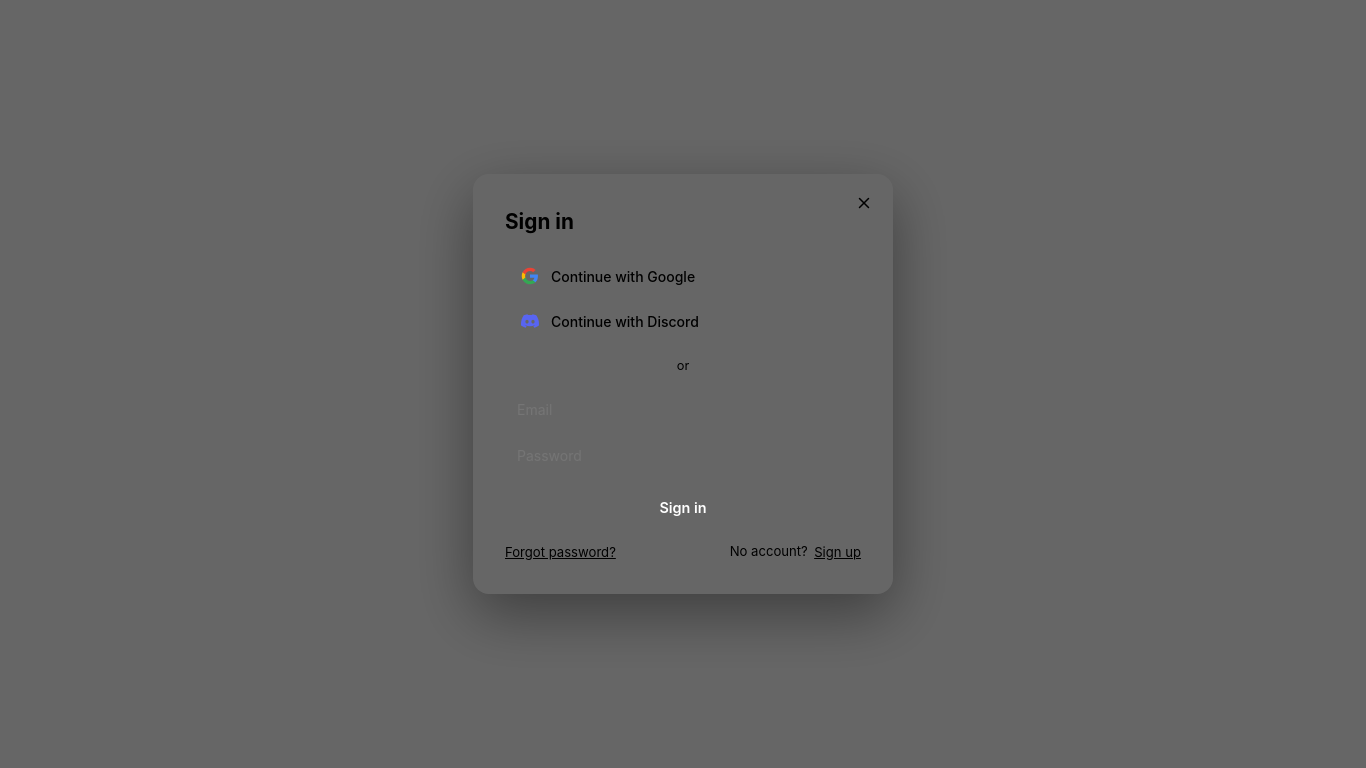
Test: AuthModal › "Forgot password?" switches to reset view
The image size is (1366, 768).
Step 1. Click the button "Forgot password?" → click(560, 552), box [505,544,616,560]
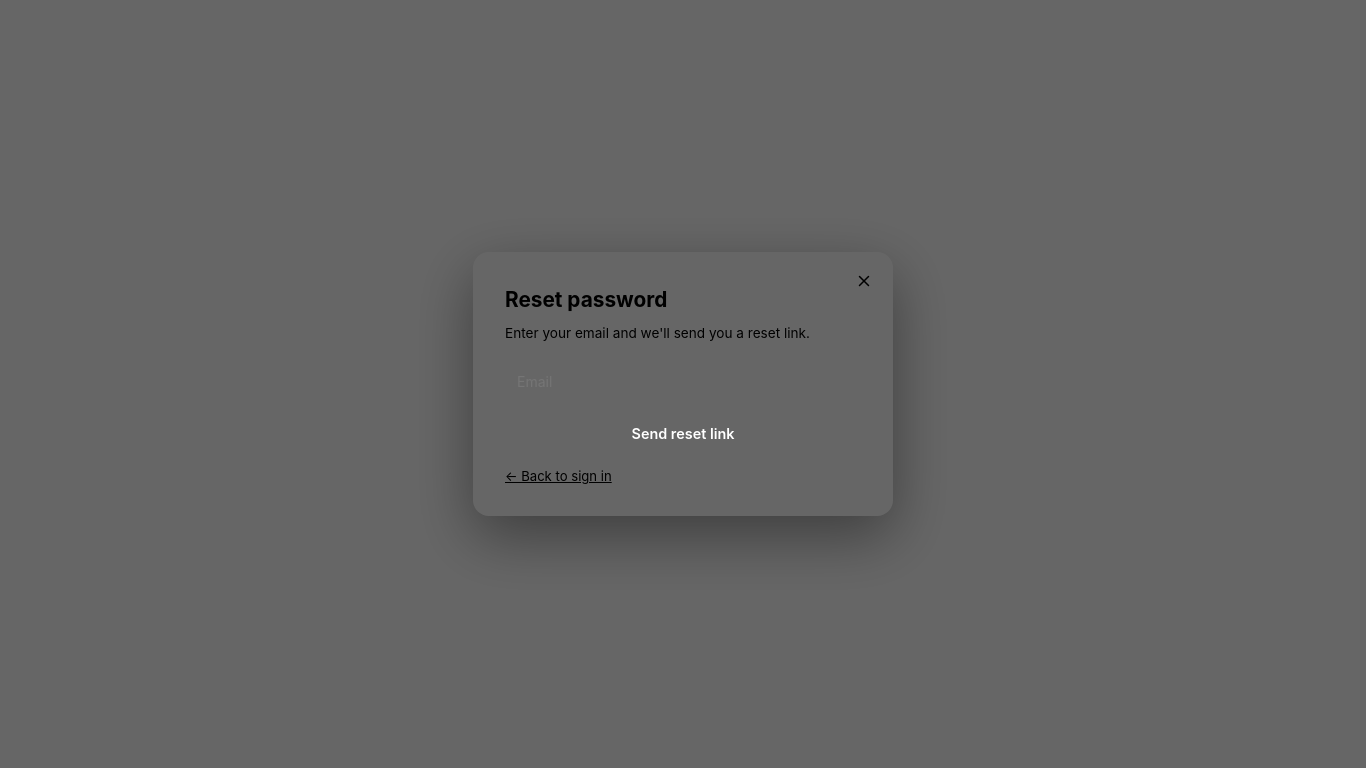
Result: the heading "Reset password" is shown at [505,287,667,312]
